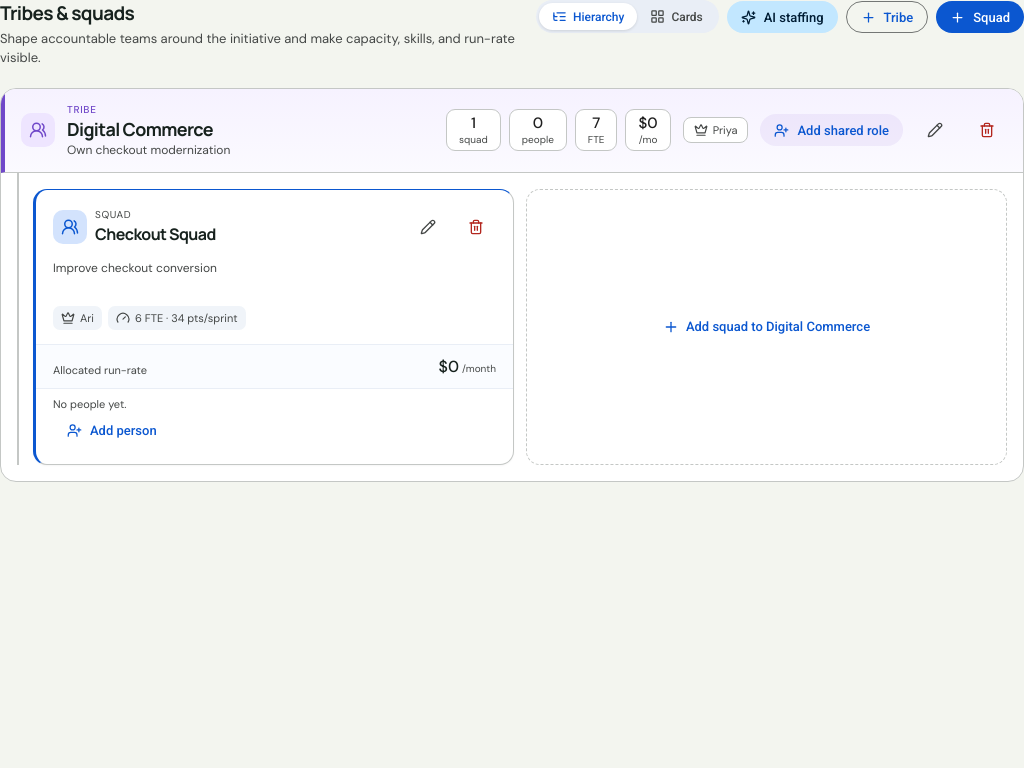
Test case: keeps tribe shared roles optional while allowing them to be added
Click the button with aria-label "Add tribe-level shared role to Digital Commerce": {"x": 832, "y": 130} [760,114,903,146]
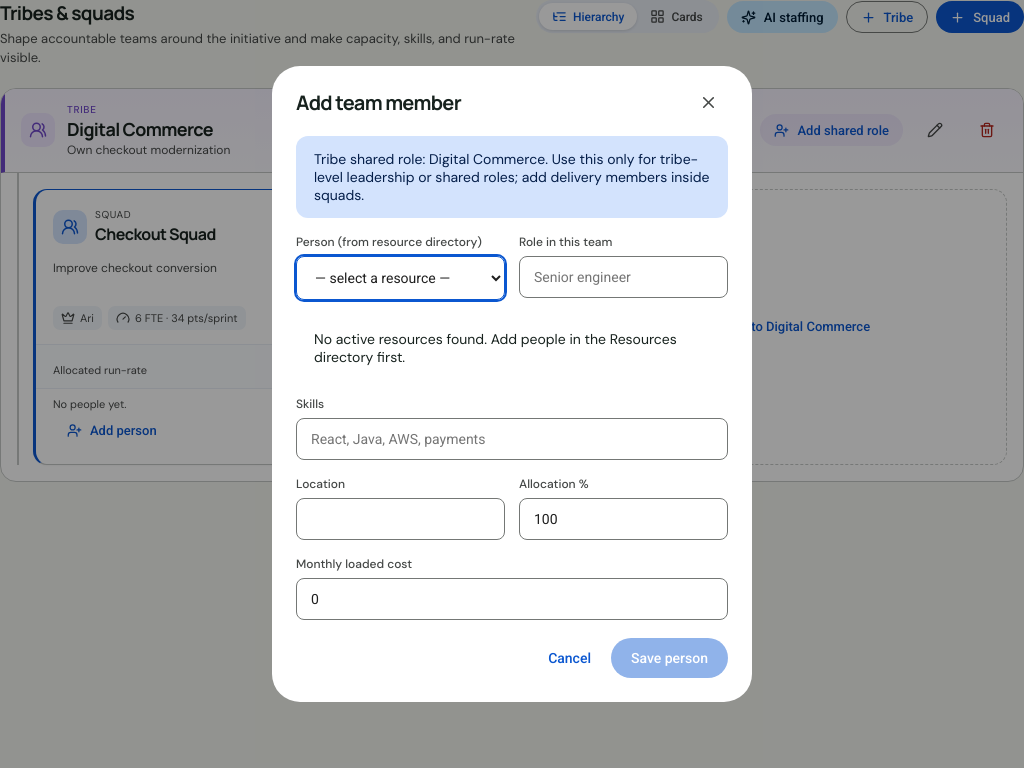
Now the dialog "Add team member" is shown, box [272,66,752,702]
Now the text "add delivery members inside squads" is shown, box [314,150,710,204]
